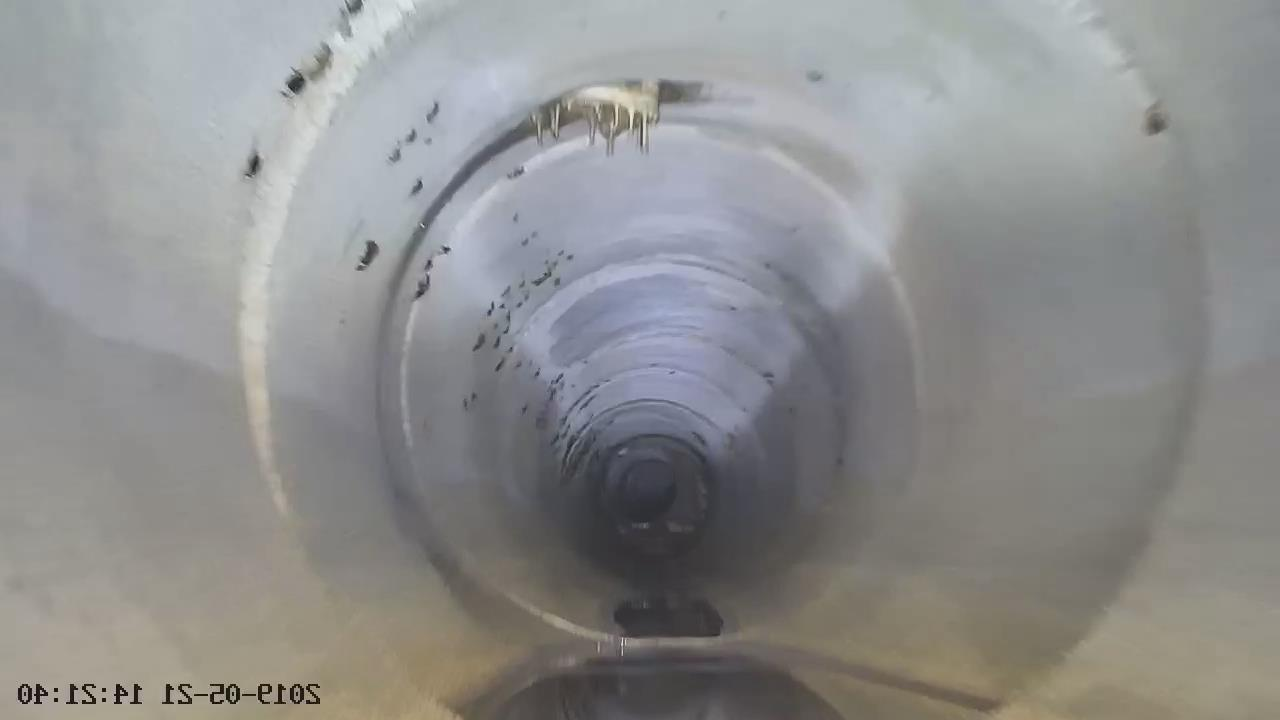CKTJ: (239, 0, 418, 514)
ZGAJ: (533, 79, 660, 145)
